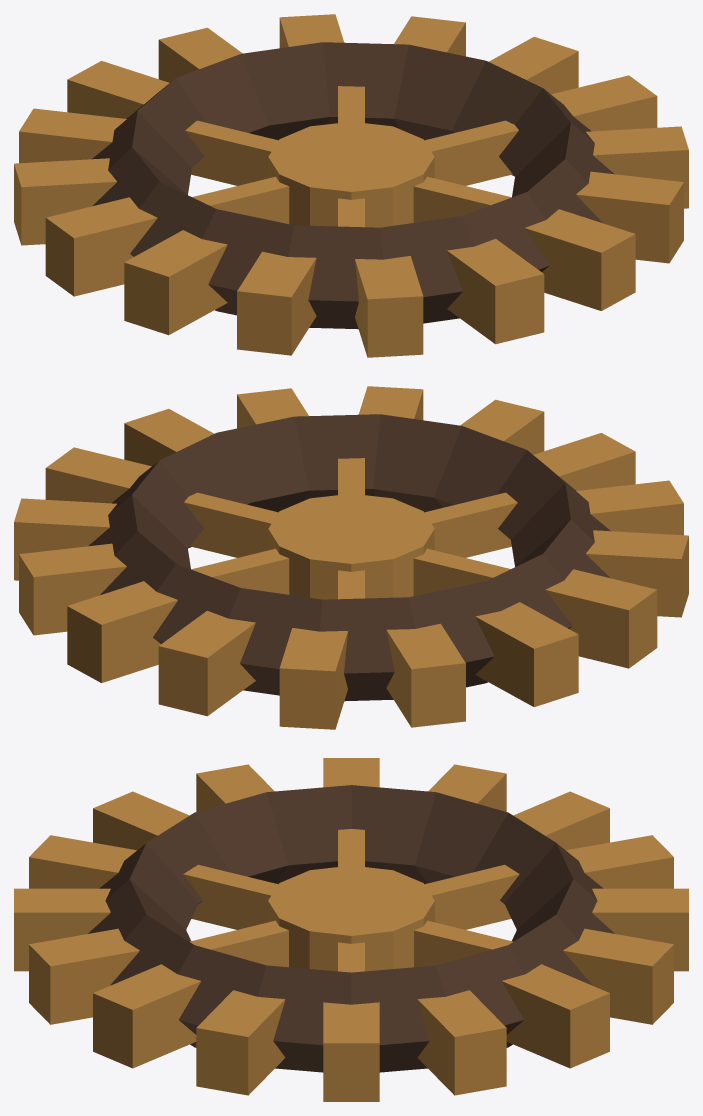
File: gear_machine_part.glb
3 views of the same model, one above another, from view 1: azimuth 30°, elevation 25°; view 2: azimuth 150°, elevation 25°; view 3: azimuth 270°, elevation 25° (orthographic).
Parts seen in each view (by area): view 1: GearRim, GearHub, Tooth13, Tooth9, Tooth8, Tooth12, Tooth10, Tooth14, Tooth11, Tooth7, Tooth15, Tooth6 (+12 smaller); view 2: GearRim, GearHub, Tooth3, Tooth7, Tooth8, Tooth4, Tooth6, Tooth2, Tooth5, Tooth9, Tooth1, Tooth10 (+12 smaller); view 3: GearRim, GearHub, Tooth2, Tooth14, Tooth1, Tooth15, Tooth3, Tooth13, Tooth0, Tooth4, Tooth12, Tooth5 (+12 smaller).
Part boxes in pixels (x1,y1,x2,y2): GearRim: (92, 42, 614, 329); GearHub: (268, 121, 434, 227); Tooth13: (525, 209, 635, 310); Tooth9: (124, 230, 227, 335); Tooth8: (45, 197, 157, 296); Tooth12: (447, 239, 544, 344); Tooth10: (237, 251, 316, 355); Tooth14: (576, 171, 683, 263); Tooth11: (355, 256, 423, 357); Tooth7: (14, 158, 116, 245); Tooth15: (586, 126, 688, 208); Tooth6: (19, 108, 126, 163); GearRim: (88, 414, 610, 701); GearHub: (268, 493, 434, 599); Tooth3: (67, 581, 177, 682); Tooth7: (475, 602, 578, 707); Tooth8: (545, 569, 657, 668); Tooth4: (158, 611, 255, 716); Tooth6: (386, 623, 465, 727); Tooth2: (19, 543, 126, 635); Tooth5: (279, 628, 347, 729); Tooth9: (586, 530, 688, 617); Tooth1: (14, 498, 116, 580); Tooth10: (576, 480, 683, 535); GearRim: (88, 785, 614, 1072); GearHub: (268, 865, 434, 971); Tooth2: (501, 964, 609, 1068); Tooth14: (93, 964, 201, 1068); Tooth1: (417, 990, 506, 1095); Tooth15: (196, 990, 285, 1095); Tooth3: (563, 928, 673, 1024); Tooth13: (29, 928, 139, 1024); Tooth0: (323, 1002, 379, 1101); Tooth4: (592, 888, 688, 971); Tooth12: (14, 888, 110, 971); Tooth5: (566, 835, 673, 888).
Size of the model in its own units: 5.02 by 0.84 by 5.02.
